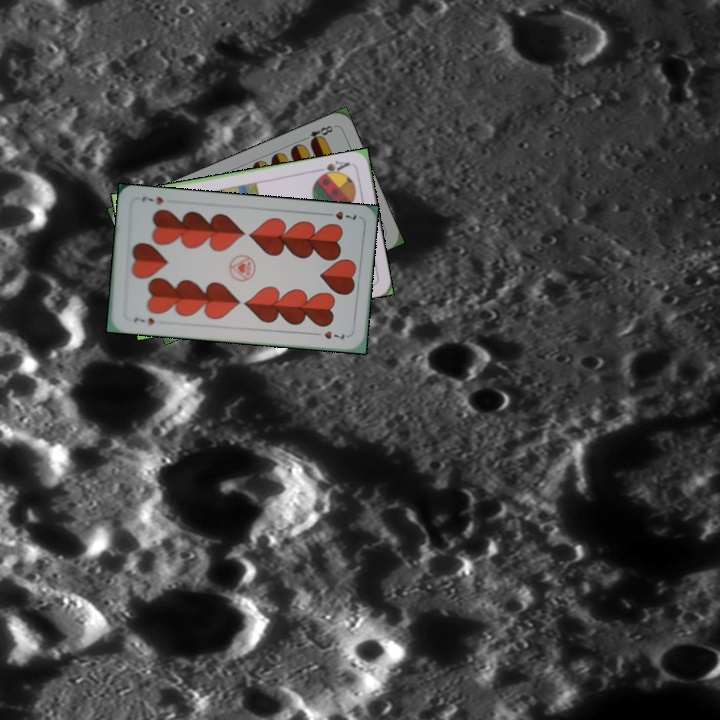E8: (298, 121, 336, 146)
H7: (320, 207, 359, 223), (130, 313, 157, 328)
SA: (313, 157, 352, 180)
